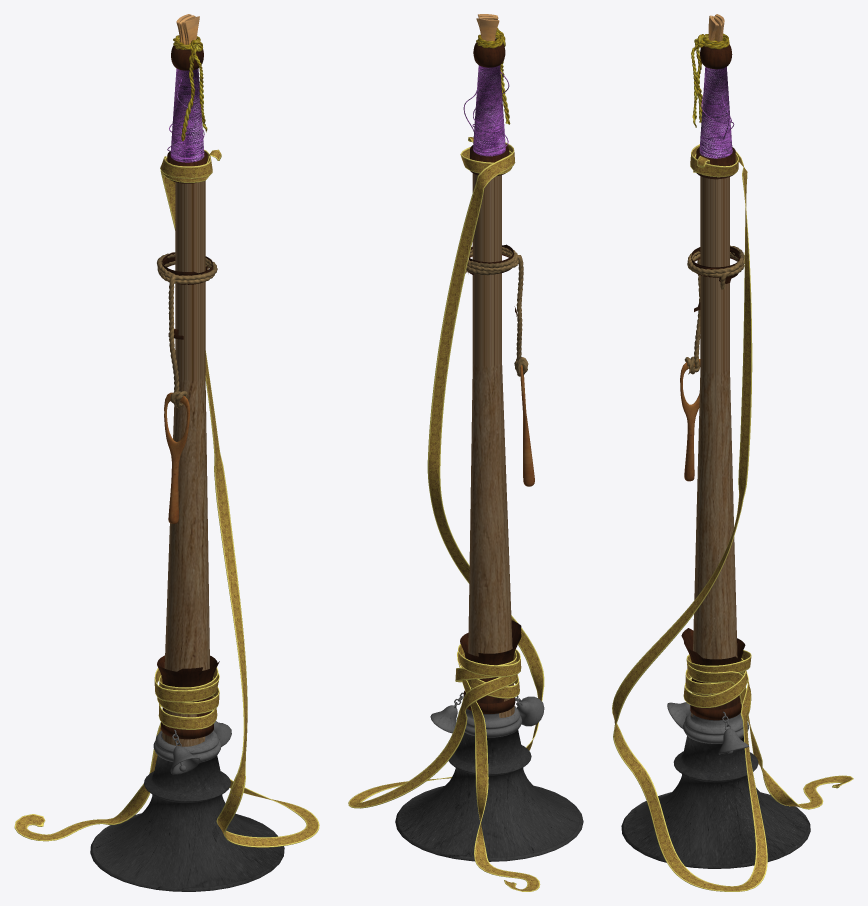
File: ottu.glb
The picture shows the model from 3 angles, left to right: view 1: azimuth 30°, elevation 25°; view 2: azimuth 150°, elevation 25°; view 3: azimuth 270°, elevation 25°; orthographic projection. The views are drawn at different scales.
Visible parts, largest first — view 1: Object_2; view 2: Object_2; view 3: Object_2.
Boxes of the visible parts, <box> form: Object_2: <box>14,14,319,891</box>; Object_2: <box>348,14,583,891</box>; Object_2: <box>612,14,853,891</box>.
Size of the model in its own units: 0.7635 by 2.52 by 0.6807.
Materials: 4 (4 with a texture image).
